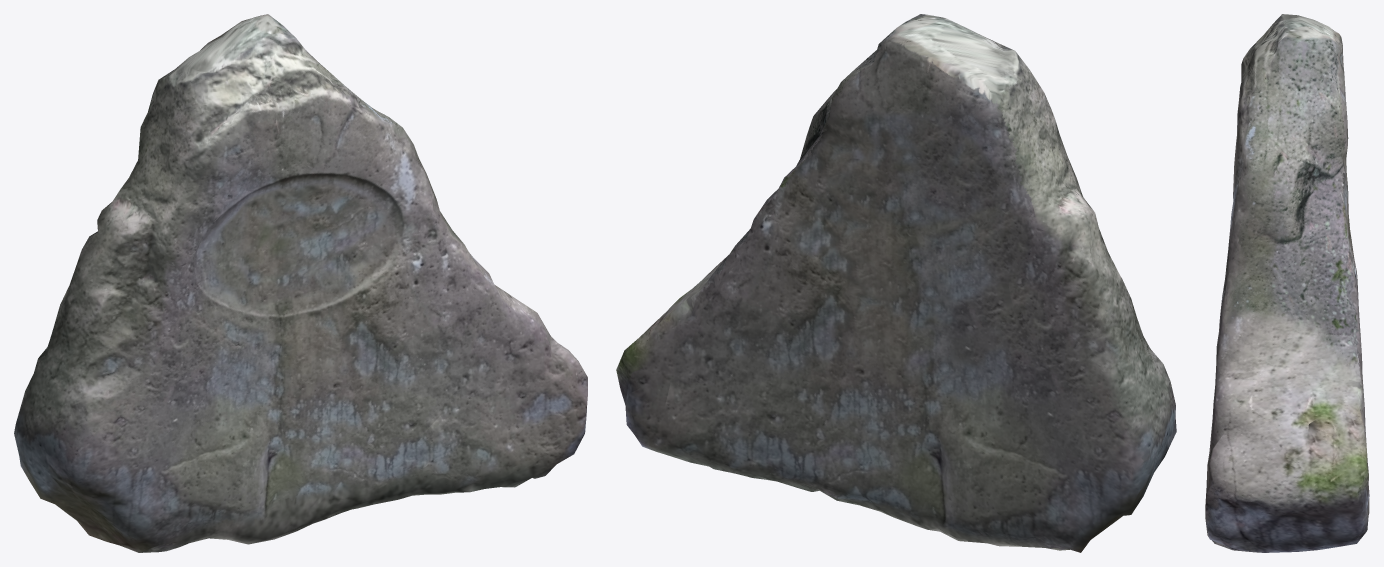
The model's file is [uhq] landmark1.fbx.
The picture shows the model from 3 angles, left to right: view 1: azimuth 30°, elevation 25°; view 2: azimuth 150°, elevation 25°; view 3: azimuth 270°, elevation 25°; orthographic projection. The views are drawn at different scales.
Parts seen in each view (by area): view 1: landmark1_LOD0; view 2: landmark1_LOD0; view 3: landmark1_LOD0.
Part boxes in pixels (left/top/right/bottom): landmark1_LOD0: left=14, top=14, right=587, bottom=552; landmark1_LOD0: left=616, top=14, right=1176, bottom=552; landmark1_LOD0: left=1205, top=14, right=1369, bottom=552.
Size of what is drawn, in the model's own units: 3.14 by 2.87 by 0.9775.
